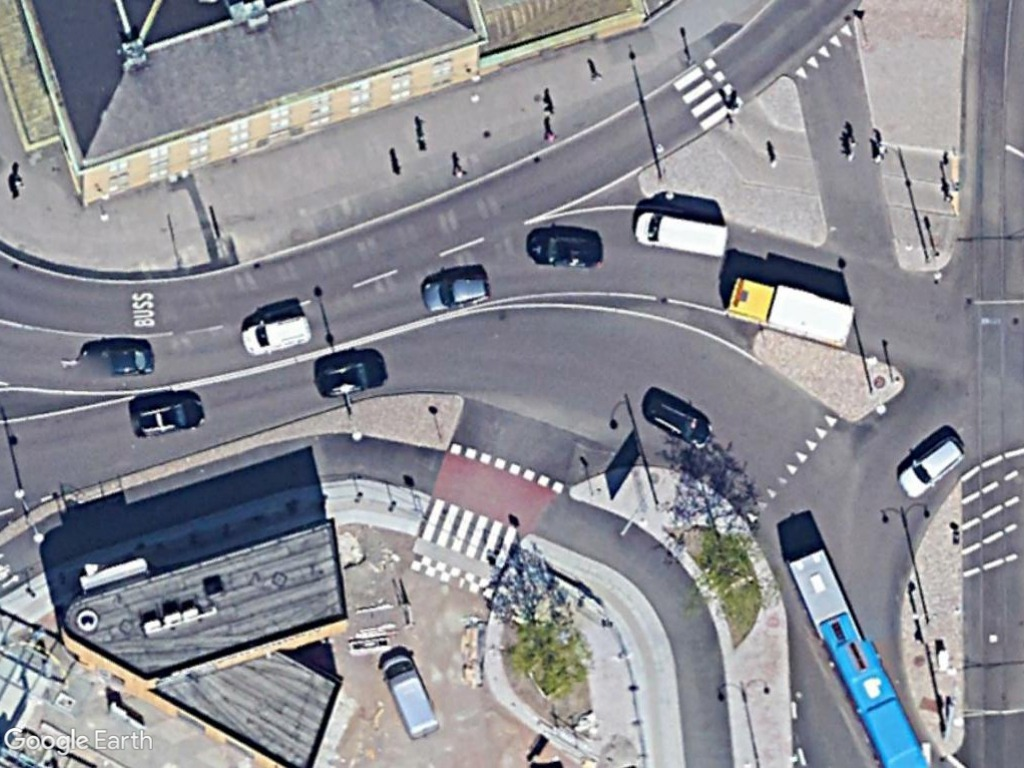car: (890, 432, 970, 502), (642, 388, 719, 456), (235, 304, 317, 362), (126, 391, 208, 445), (310, 348, 395, 397), (525, 225, 610, 271), (416, 269, 496, 316)
van: (377, 644, 447, 747), (630, 206, 737, 262)
